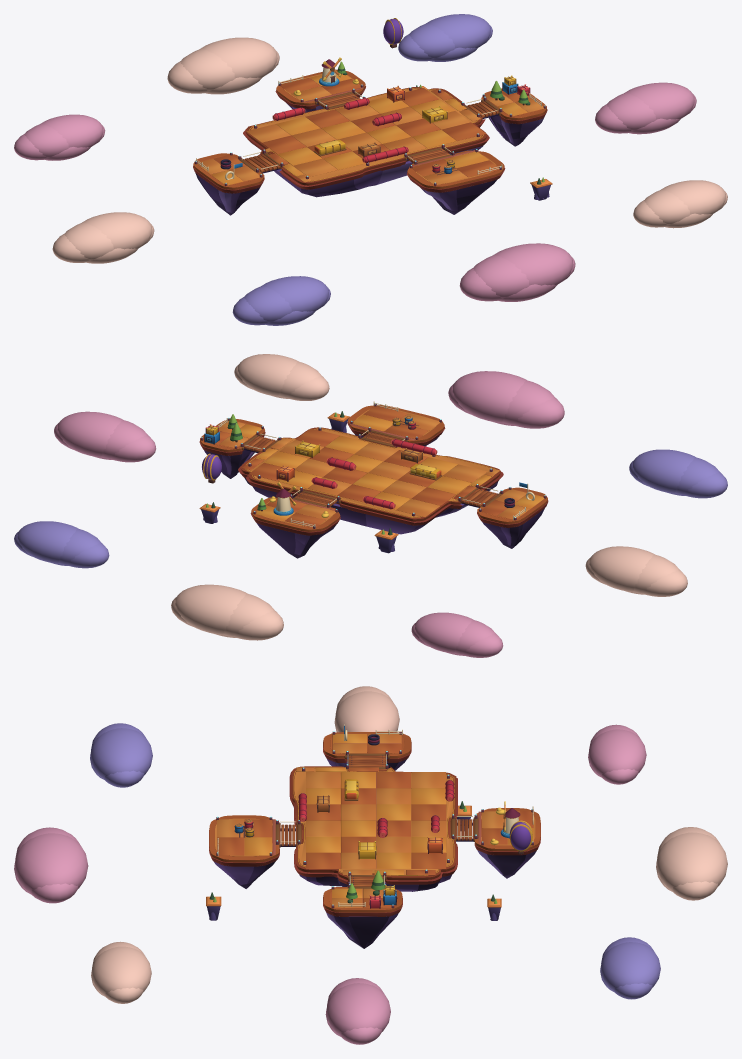
File: open_ringout_v2_preview.glb
The picture shows the model from 3 angles, top to bottom: view 1: azimuth 30°, elevation 25°; view 2: azimuth 150°, elevation 25°; view 3: azimuth 270°, elevation 25°; orthographic projection. The views are drawn at different scales.
Parts seen in each view (by area): view 1: P26Batch_09_p24_sunset_deck_panel_light, P26Batch_08_p24_sunset_deck_panel_gold, P26Batch_10_p24_sunset_deck_panel_mid, V3CloudSouth_2, V3CloudNorth_2, V3CloudWest_2, V3CloudEast_2, V3CloudSouthWest_2, V3CloudSouthEast_2, V3CloudNorthEast_2, V3CloudSouth_1, V3CloudNorth_1 (+31 smaller); view 2: P26Batch_09_p24_sunset_deck_panel_light, P26Batch_08_p24_sunset_deck_panel_gold, P26Batch_10_p24_sunset_deck_panel_mid, V3CloudSouth_2, V3CloudNorth_2, V3CloudWest_2, V3CloudEast_2, V3CloudSouthWest_2, V3CloudNorthEast_2, V3CloudSouthEast_2, V3CloudNorthWest_2, V2CentralCliff (+30 smaller); view 3: P26Batch_09_p24_sunset_deck_panel_light, P26Batch_08_p24_sunset_deck_panel_gold, P26Batch_10_p24_sunset_deck_panel_mid, V3CloudSouth_2, V3CloudNorth_2, V3CloudEast_2, V3CloudSouthWest_2, V3CloudNorthEast_2, V3CloudSouthEast_2, V3CloudWest_2, V3CloudNorthWest_2, V2CentralTop (+18 smaller).
Boxes of the visible parts, box(x1,y1,x2,y2) form: P26Batch_09_p24_sunset_deck_panel_light: box(197, 74, 543, 184); P26Batch_08_p24_sunset_deck_panel_gold: box(211, 73, 527, 185); P26Batch_10_p24_sunset_deck_panel_mid: box(200, 78, 539, 184); V3CloudSouth_2: box(492, 243, 573, 285); V3CloudNorth_2: box(199, 37, 277, 78); V3CloudWest_2: box(81, 212, 152, 249); V3CloudEast_2: box(624, 82, 694, 119); V3CloudSouthWest_2: box(261, 276, 328, 311); V3CloudSouthEast_2: box(660, 180, 725, 214); V3CloudNorthEast_2: box(425, 14, 490, 48); V3CloudSouth_1: box(473, 255, 530, 298); V3CloudNorth_1: box(180, 49, 235, 90); P26Batch_09_p24_sunset_deck_panel_light: box(218, 409, 529, 526); P26Batch_08_p24_sunset_deck_panel_gold: box(240, 414, 544, 520); P26Batch_10_p24_sunset_deck_panel_mid: box(203, 406, 540, 527); V3CloudSouth_2: box(452, 371, 527, 423); V3CloudNorth_2: box(175, 584, 247, 635); V3CloudWest_2: box(589, 546, 654, 591); V3CloudEast_2: box(57, 411, 122, 457); V3CloudSouthWest_2: box(633, 449, 695, 493); V3CloudNorthEast_2: box(17, 521, 78, 563); V3CloudSouthEast_2: box(238, 354, 298, 396); V3CloudNorthWest_2: box(415, 612, 473, 653); V2CentralCliff: box(244, 477, 498, 534); P26Batch_09_p24_sunset_deck_panel_light: box(215, 734, 535, 907); P26Batch_08_p24_sunset_deck_panel_gold: box(244, 734, 533, 897); P26Batch_10_p24_sunset_deck_panel_mid: box(217, 733, 533, 907); V3CloudSouth_2: box(14, 833, 88, 893); V3CloudNorth_2: box(656, 832, 727, 890); V3CloudEast_2: box(326, 983, 390, 1035); V3CloudSouthWest_2: box(90, 728, 152, 779); V3CloudNorthEast_2: box(600, 942, 660, 991); V3CloudSouthEast_2: box(91, 946, 151, 995); V3CloudWest_2: box(335, 691, 399, 732); V3CloudNorthWest_2: box(588, 729, 646, 776); V2CentralTop: box(291, 766, 456, 880).
Bounding box in the file's own units: 187 × 28.74 × 163.
Materials: 44 (5 with a texture image).
